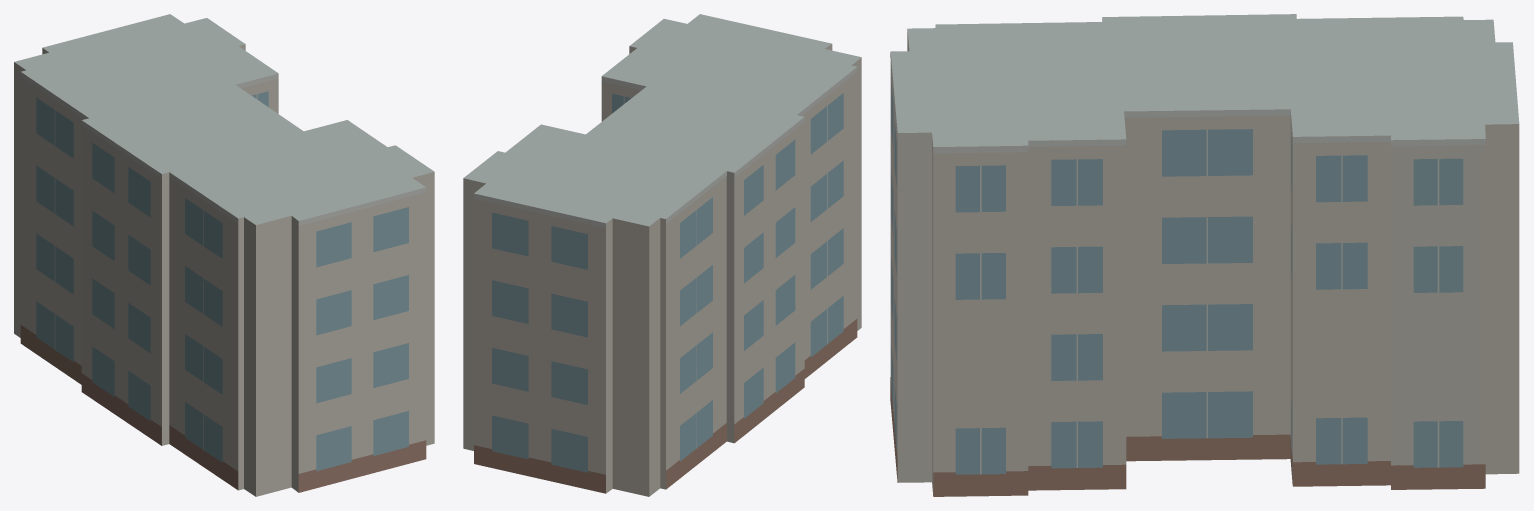
The model's file is survey-upis-32802910.glb.
3 renders of one model, left to right at view 1: azimuth 30°, elevation 25°; view 2: azimuth 150°, elevation 25°; view 3: azimuth 270°, elevation 25°, orthographic. The views are drawn at different scales.
Parts seen in each view (by area): view 1: survey-upis-32802910.tmp; view 2: survey-upis-32802910.tmp; view 3: survey-upis-32802910.tmp.
Part boxes in pixels (box(x1,y1,x2,y2)): survey-upis-32802910.tmp: box(14, 14, 434, 496); survey-upis-32802910.tmp: box(463, 14, 861, 496); survey-upis-32802910.tmp: box(890, 14, 1519, 496).
Size of the model in its own units: 11.03 by 13.5 by 22.01.
